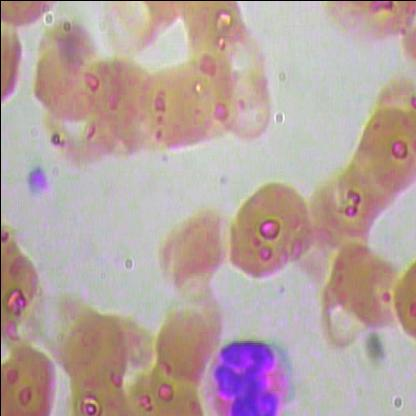Platelets: (16, 160, 52, 200)
RBC: (219, 180, 311, 288), (78, 52, 158, 148), (150, 297, 229, 393), (154, 204, 232, 300), (26, 34, 104, 130), (132, 66, 211, 158), (57, 309, 131, 399), (352, 107, 416, 199), (344, 252, 406, 336), (304, 176, 366, 260), (343, 142, 404, 226), (1, 333, 63, 415), (316, 235, 376, 319), (330, 161, 390, 245), (318, 1, 415, 52), (170, 1, 245, 62), (218, 66, 272, 146), (214, 17, 268, 97), (92, 0, 166, 58), (1, 243, 43, 343), (134, 1, 202, 35), (0, 1, 60, 35)
WBC: (199, 333, 300, 415)
